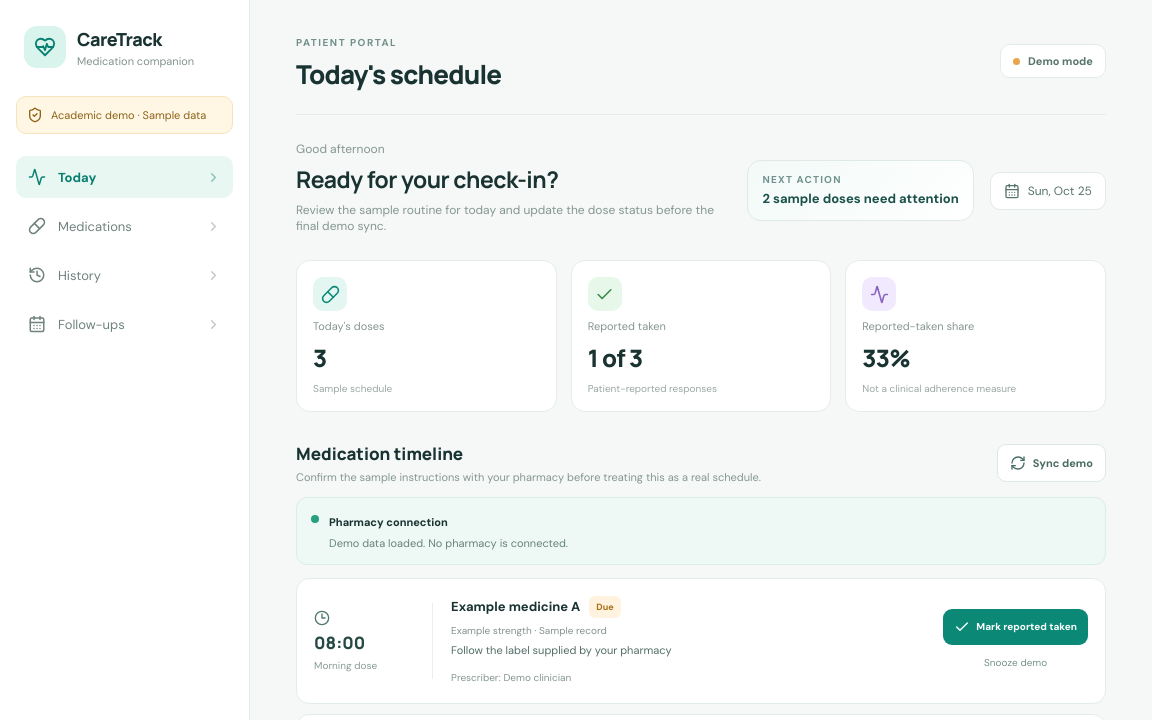
Scenario: demo medication dashboard › propagates a reported-taken update to the summary, medication list, and history
This screenshot has width=1152, height=720.
Click the button "Mark reported taken": (1016, 627) [943,609,1088,645]
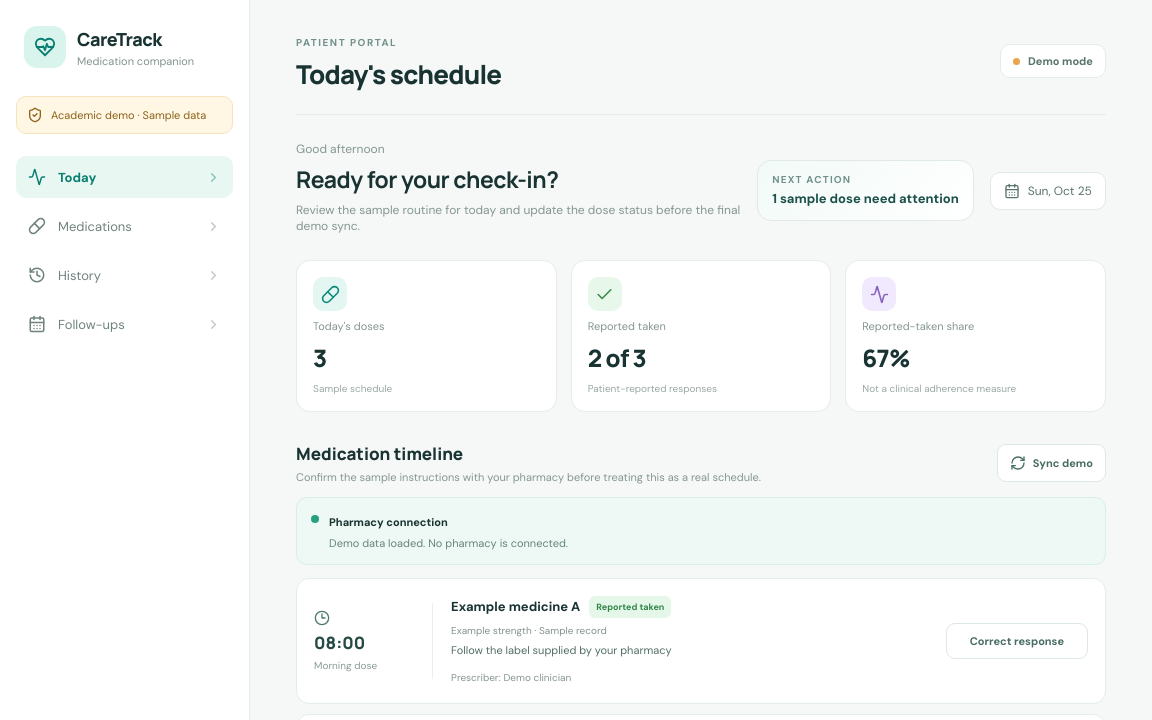
Result: the text "2 of 3" is shown at [588,341,646,374]
Result: the text "67%" is shown at [862,341,910,374]
Click the button "Medications": (124, 226) [16,205,233,247]
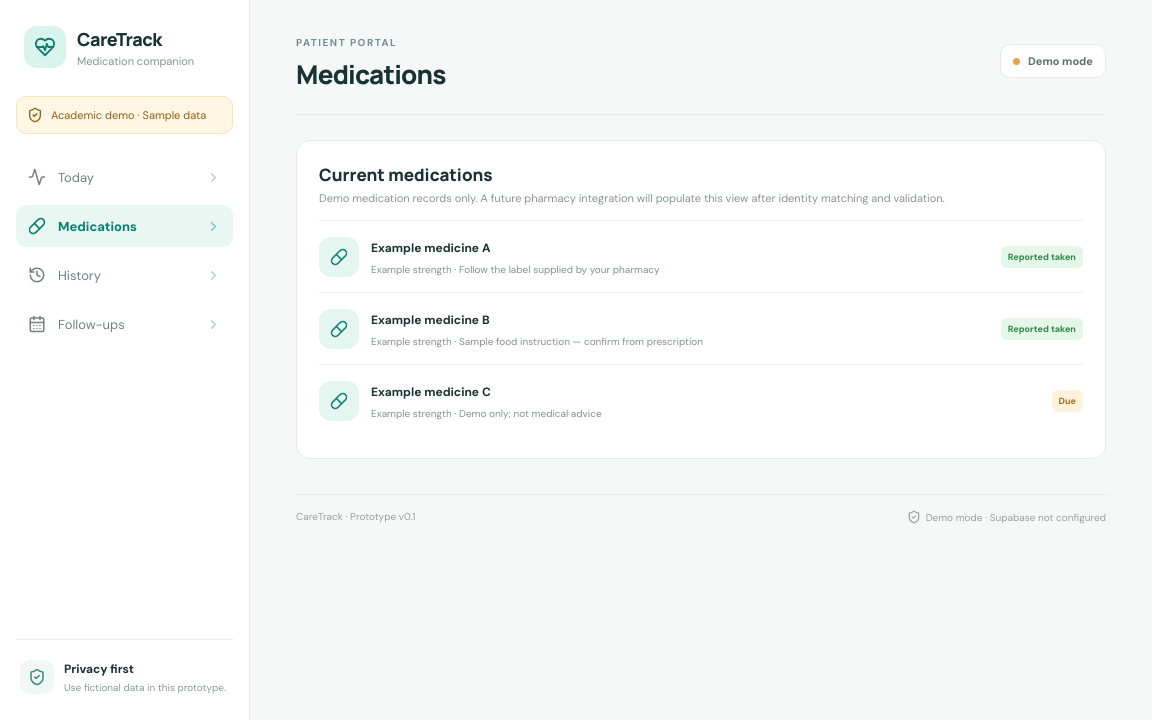
Expected: the text "Reported taken" is shown 2 times, [1001,246,1083,268]; [1001,318,1083,340]
Click the button "History": (124, 275) [16,254,233,296]
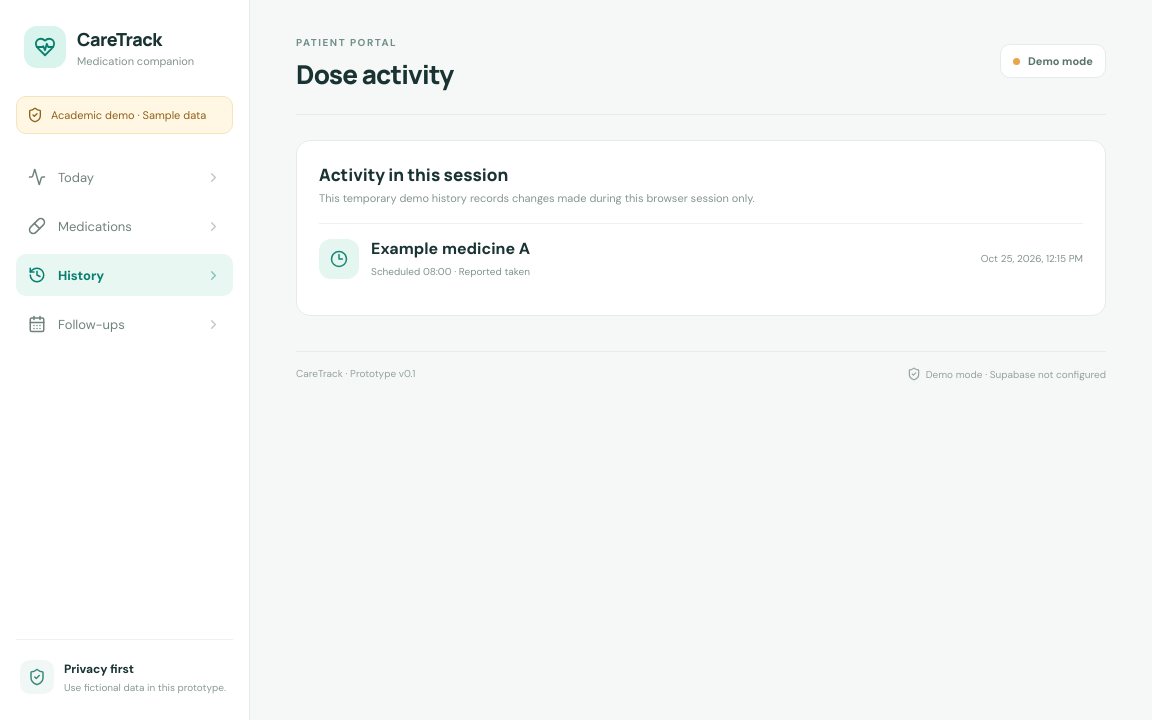
Expected: the text "Example medicine A" is shown, [371,238,530,259]
Result: the text "Scheduled 08:00 · Reported taken" is shown at [371,265,530,278]
